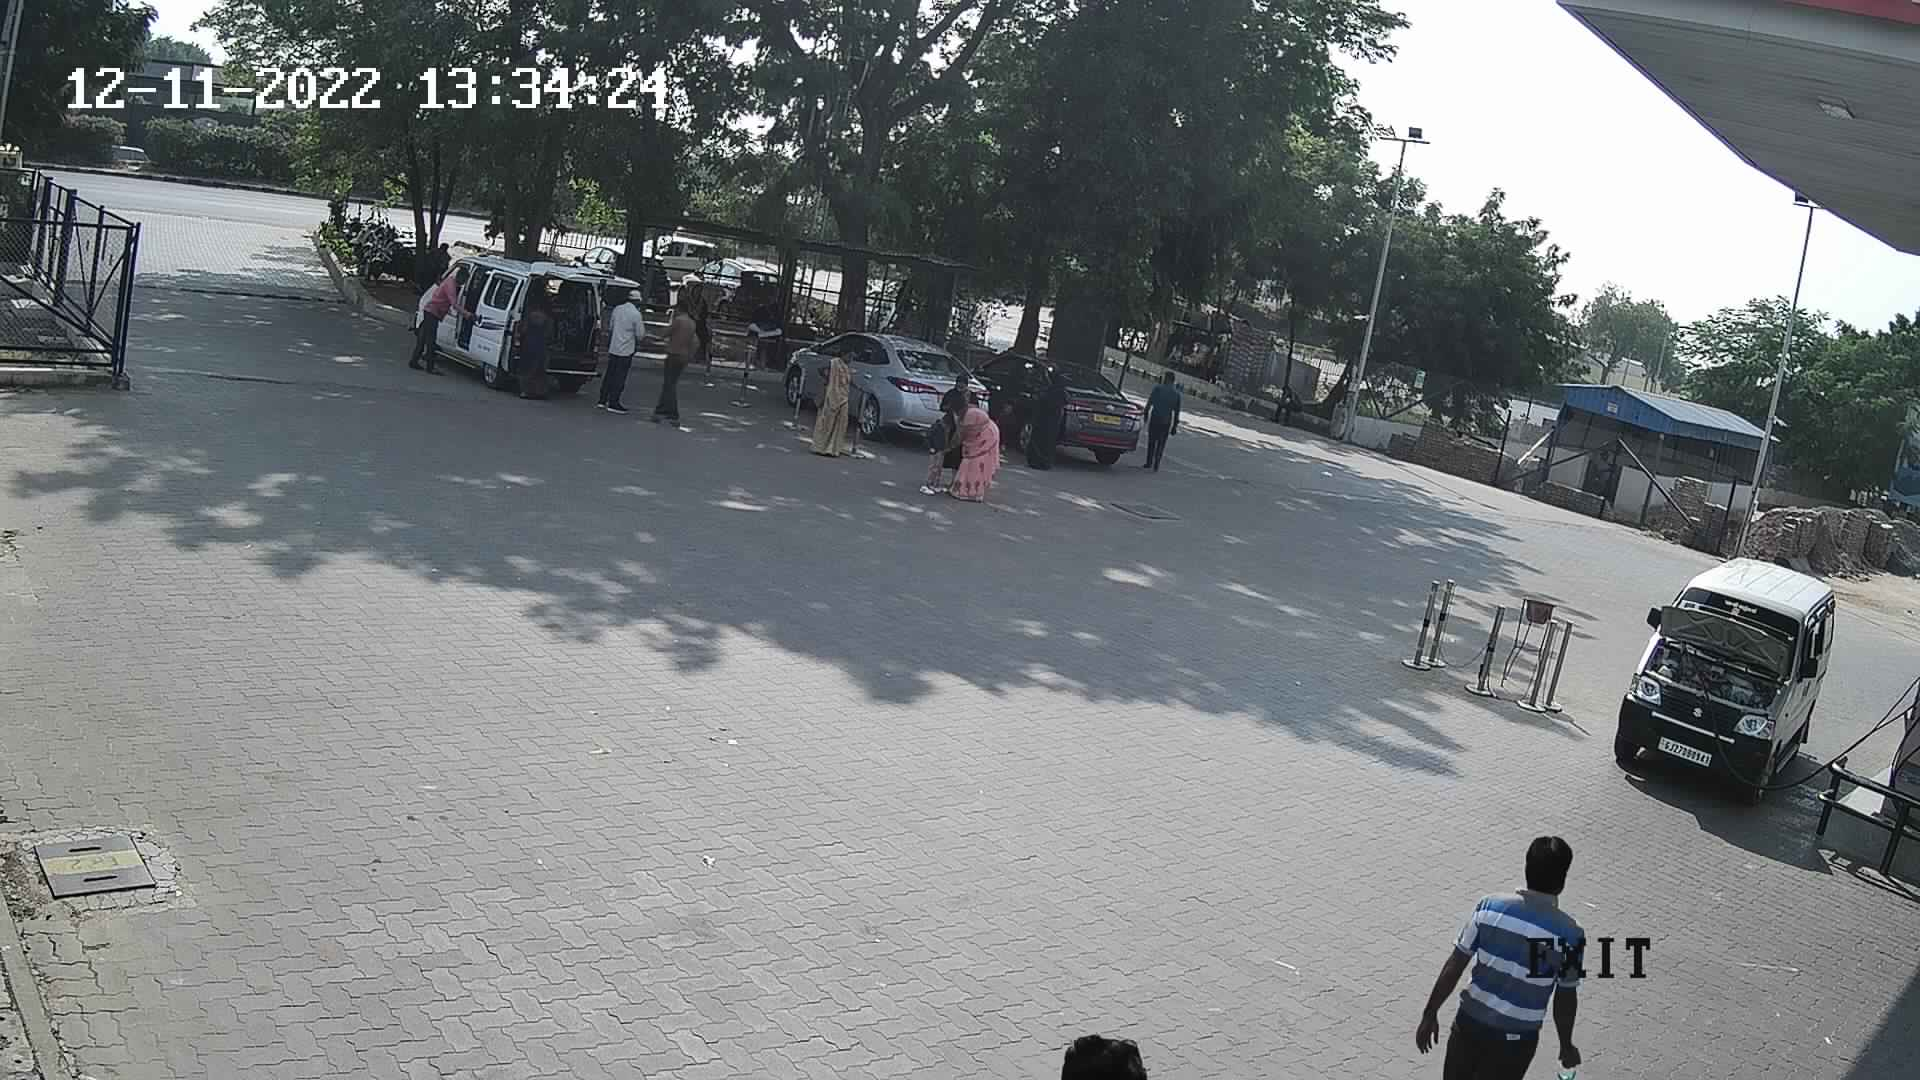Car: (1594, 545, 1853, 802), (386, 237, 650, 417), (775, 314, 980, 451), (957, 336, 1156, 475), (676, 248, 785, 326), (644, 229, 724, 286), (549, 237, 626, 286)
